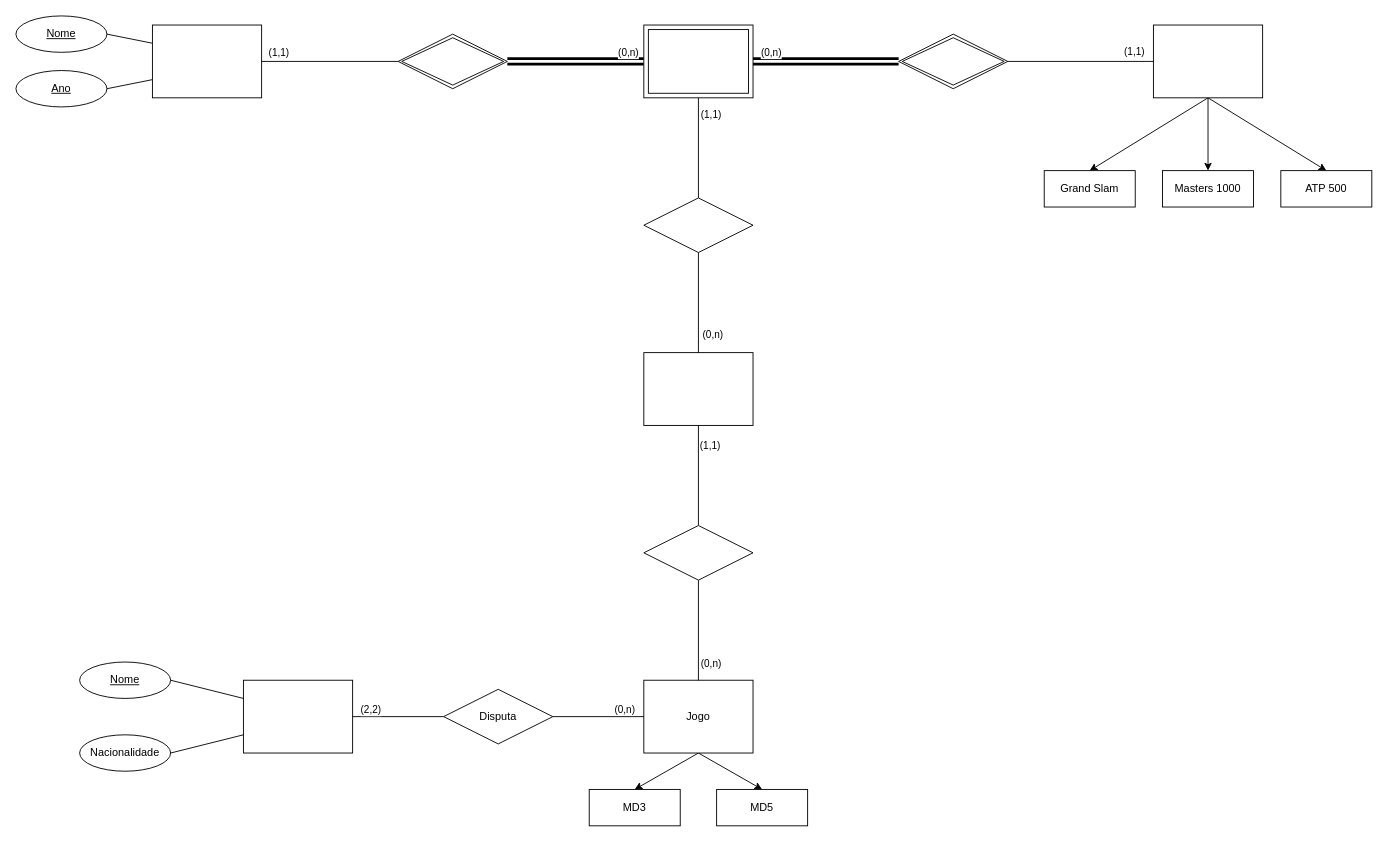
Some shapes in this 1388 by 842 pixel diagram are drawn without their labels. Each missing label, with the box of its shape:
Edição: (643, 24, 753, 98)
Jogador: (243, 679, 353, 753)
Rodada: (643, 352, 753, 425)
Temporada: (152, 24, 262, 98)
Torneio: (1153, 24, 1263, 98)
